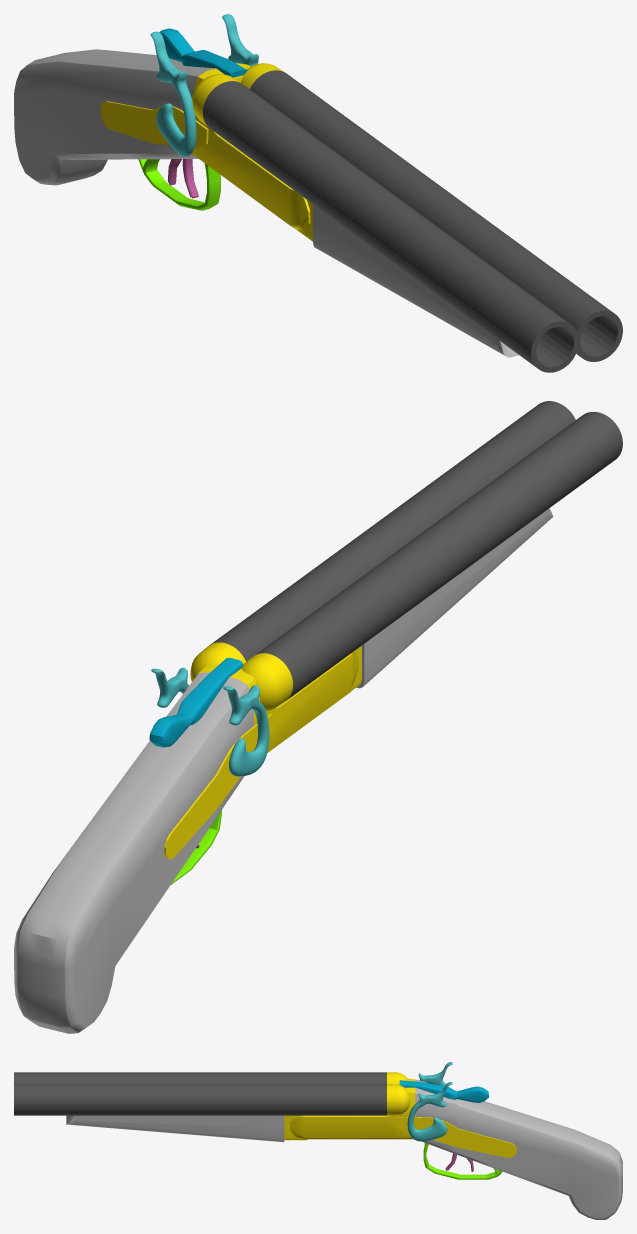
File: sawn_off_shotgun-model.glb
3 renders of one model, top to bottom at view 1: azimuth 30°, elevation 25°; view 2: azimuth 150°, elevation 25°; view 3: azimuth 270°, elevation 25°, orthographic. The views are drawn at different scales.
Parts seen in each view (by area): view 1: pSphere1, pCube2, pCube3, pCube5, pCube6, pCube4, pCube7; view 2: pSphere1, pCube2, pCube3, pCube6, pCube5, pCube4; view 3: pSphere1, pCube2, pCube3, pCube4, pCube6, pCube5.
Boxes of the visible parts, x1,y1,x2,y2 form: pSphere1: (192,63,622,372); pCube2: (14,49,310,230); pCube3: (297,200,518,357); pCube5: (150,31,196,156); pCube6: (159,28,247,77); pCube4: (222,14,258,66); pCube7: (167,159,198,198); pSphere1: (190,401,622,710); pCube2: (14,651,358,1033); pCube3: (351,508,553,690); pCube6: (149,657,243,747); pCube5: (223,685,269,776); pCube4: (151,667,189,707); pSphere1: (14,1072,409,1115); pCube2: (290,1078,622,1219); pCube3: (66,1115,307,1142); pCube4: (407,1082,452,1141); pCube6: (399,1080,488,1102); pCube5: (418,1062,452,1085).
Bounding box in the file's own units: 0.0109 × 0.0283 × 0.1098.
